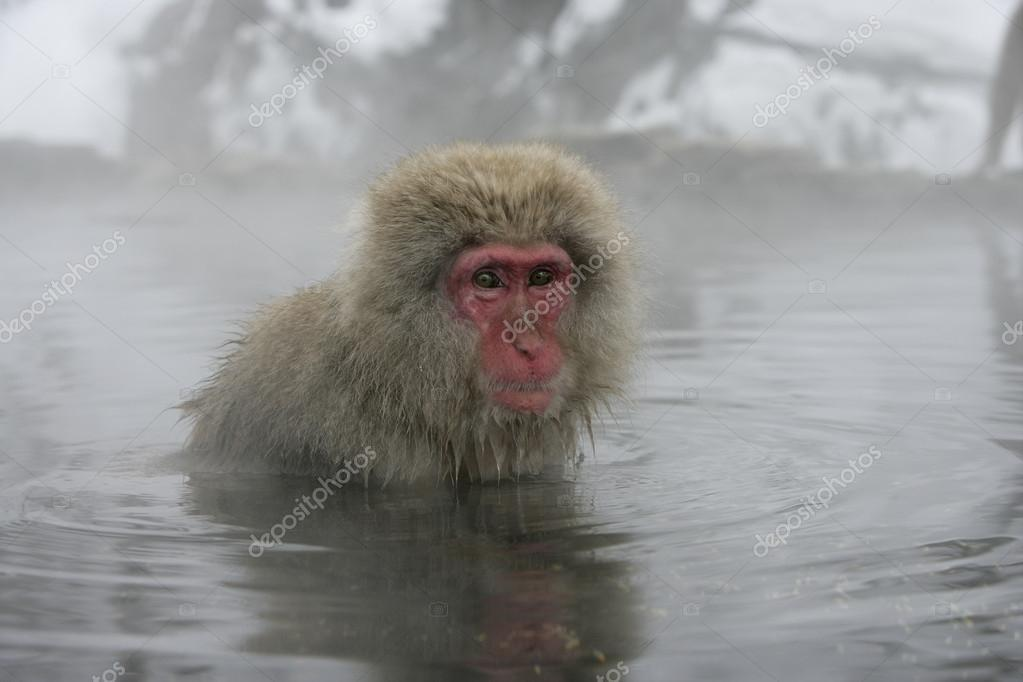monkey: (184, 142, 649, 548)
